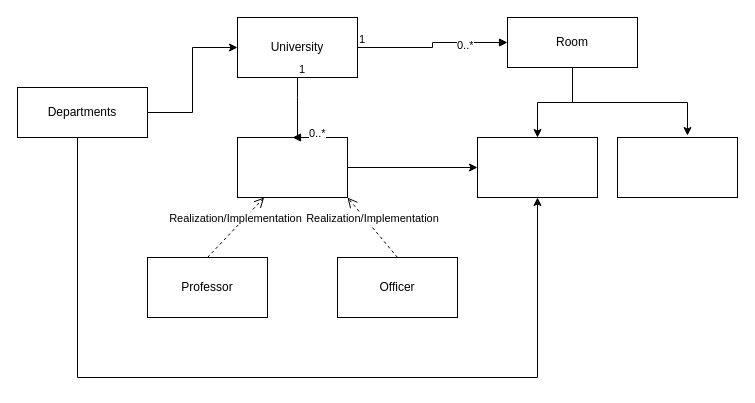
The diagram is 755 pixels wide and 403 high, and some of its shapes have lost their labels. The centre of each missing label's shape, as x and y in pixels:
"Classroom" belongs at [677,167].
"Employee" belongs at [292,167].
"Office Room" belongs at [537,167].
